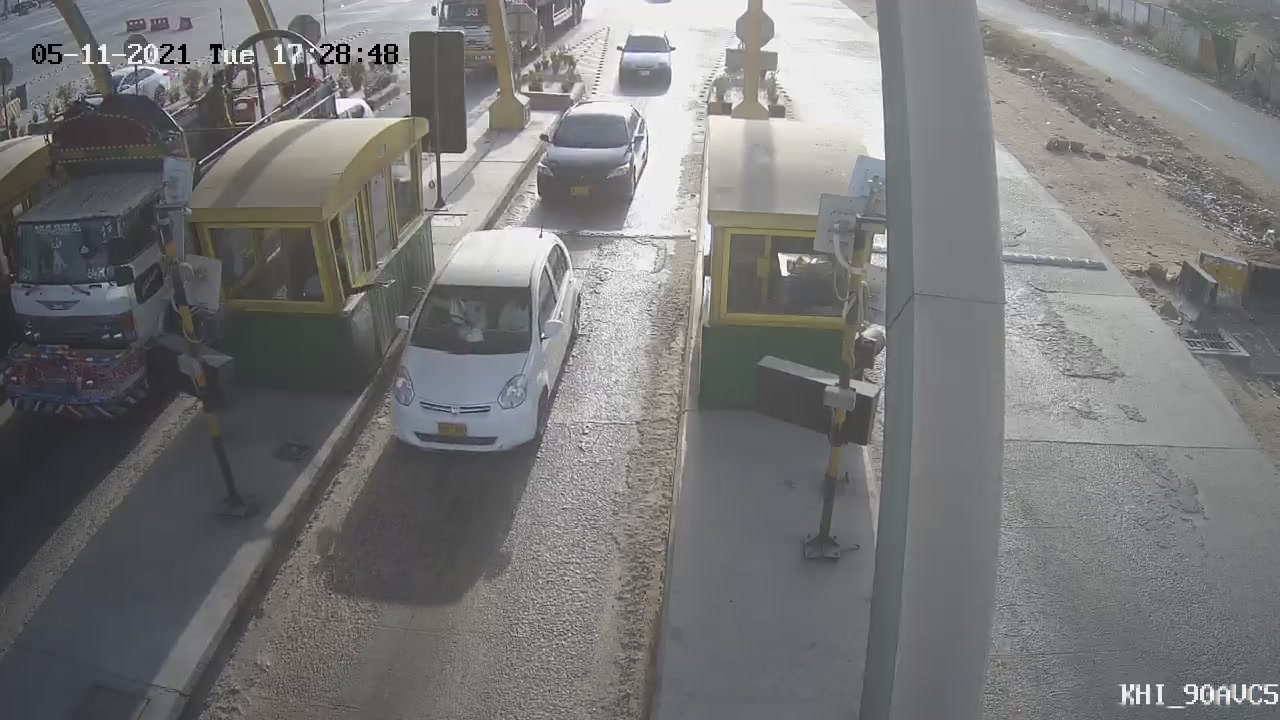F1: (368, 208, 601, 473), (516, 81, 666, 230)
